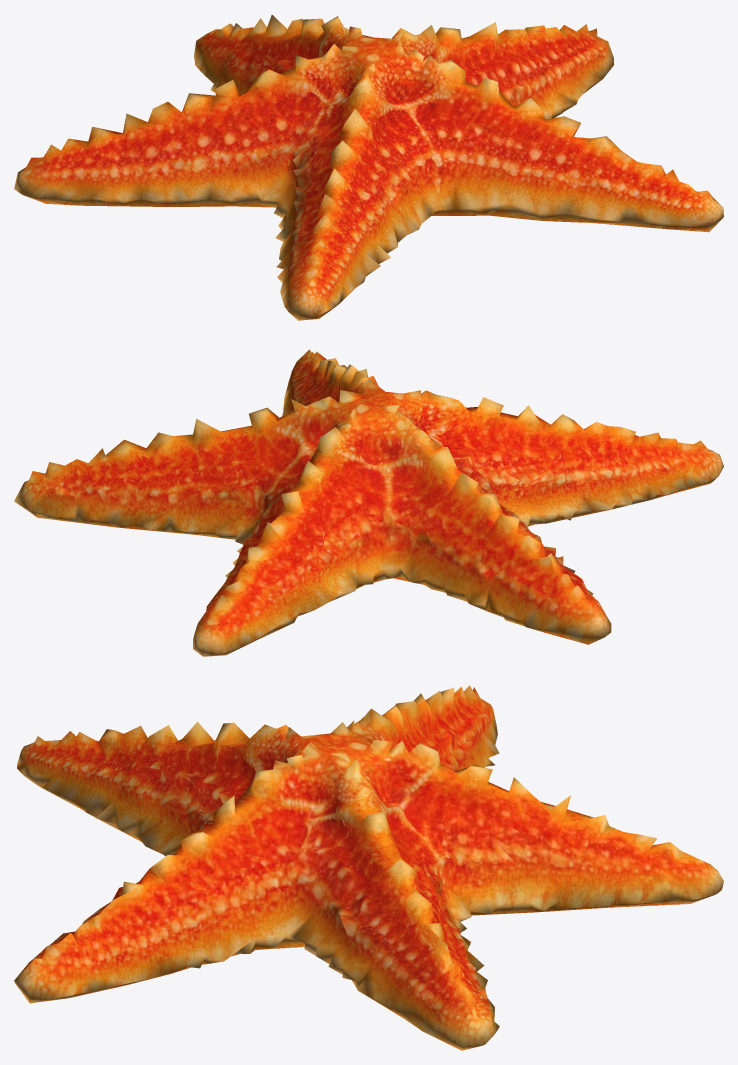
The model's file is Starfish.obj.
3 views of the same model, one above another, from view 1: azimuth 30°, elevation 25°; view 2: azimuth 150°, elevation 25°; view 3: azimuth 270°, elevation 25° (orthographic). The views are drawn at different scales.
Bounding box in the file's own units: 1 × 0.2365 × 0.9236.
1 material, 1 textured.
